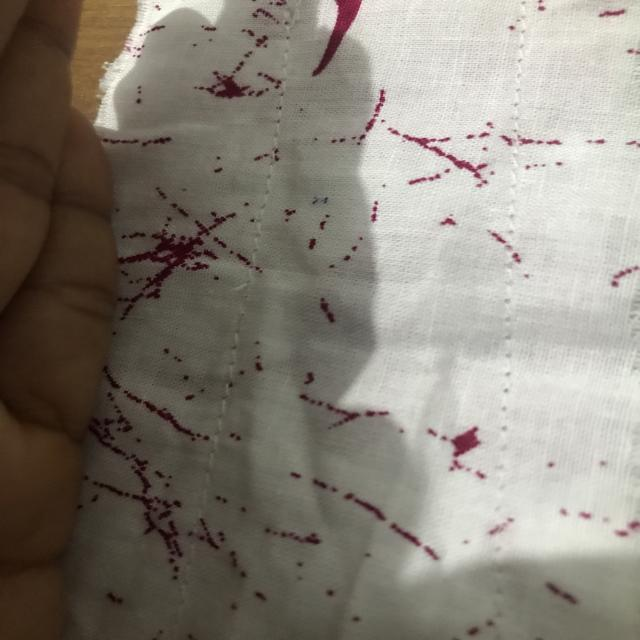broken: (231, 262, 269, 331)
